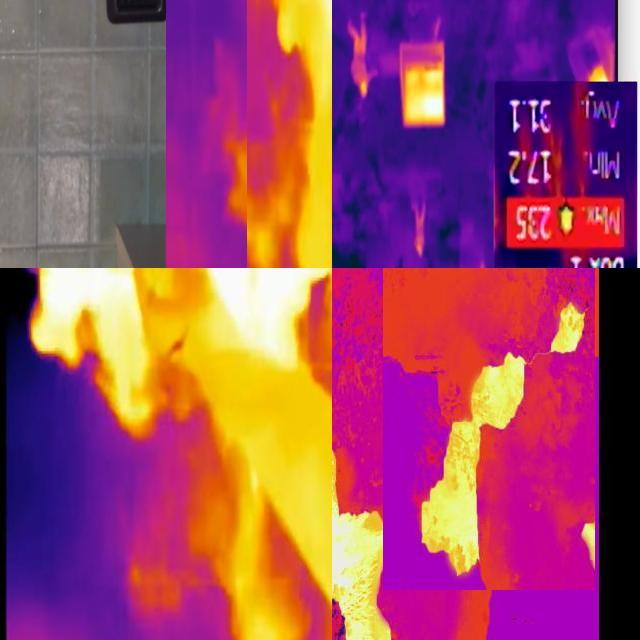fire: (416, 346, 532, 582), (29, 269, 158, 436), (278, 1, 334, 267), (203, 269, 325, 375), (333, 504, 391, 640), (395, 87, 454, 137)
